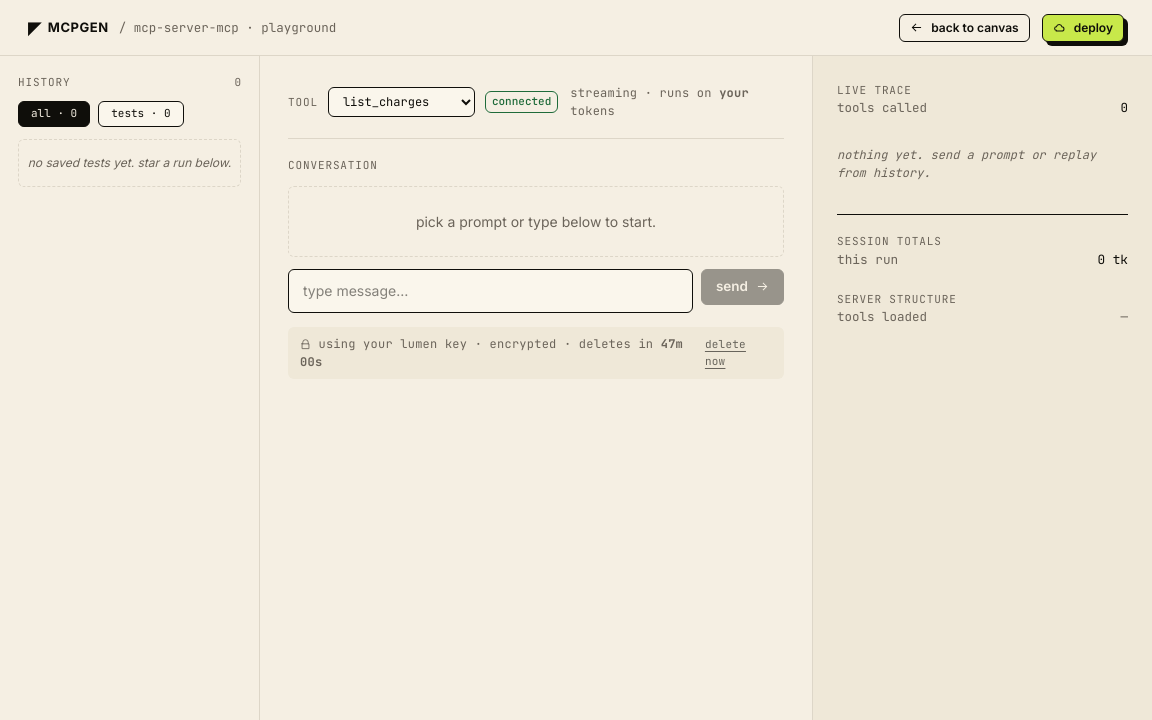
Test case: <Playground> › renders the canon "trace failed" branch when run-tool stub is disabled
The width and height of the screenshot is (1152, 720).
In the field with placeholder "type message…": (490, 290) 288,268 -> 693,312, type "test prompt"
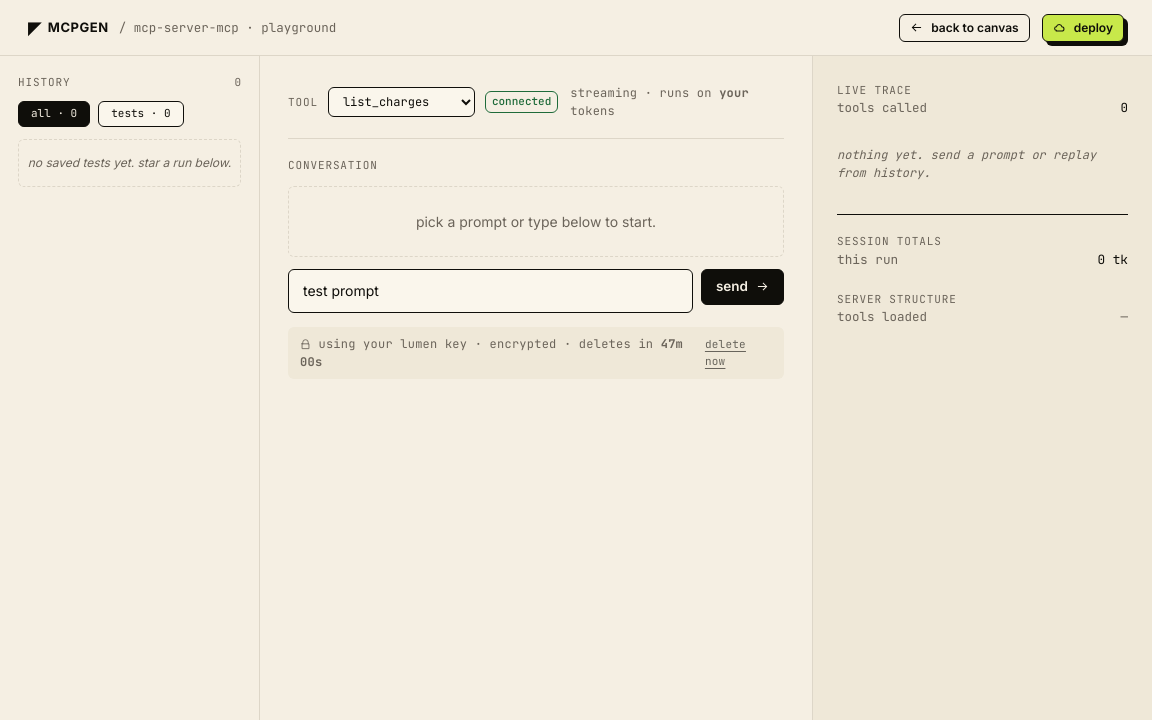
Click the button "send": (742, 286) 701,268 -> 784,304
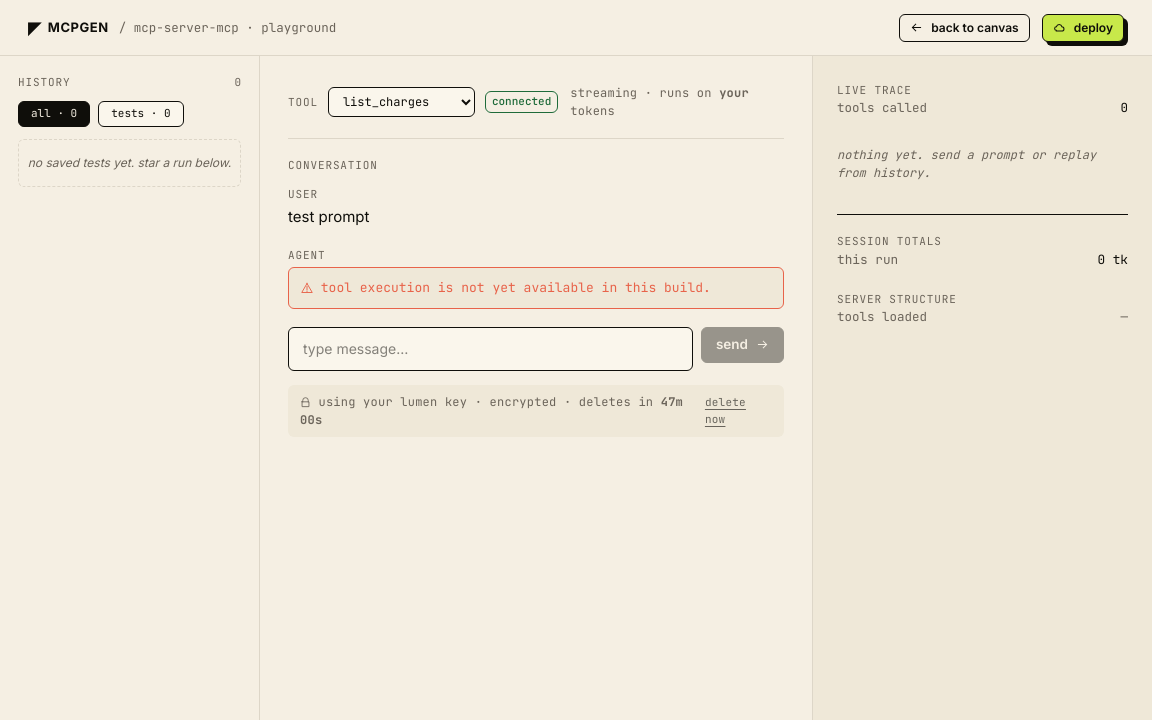
Now the element showing "tool execution is not yet available in this build." is shown, box 288,267 -> 784,308
